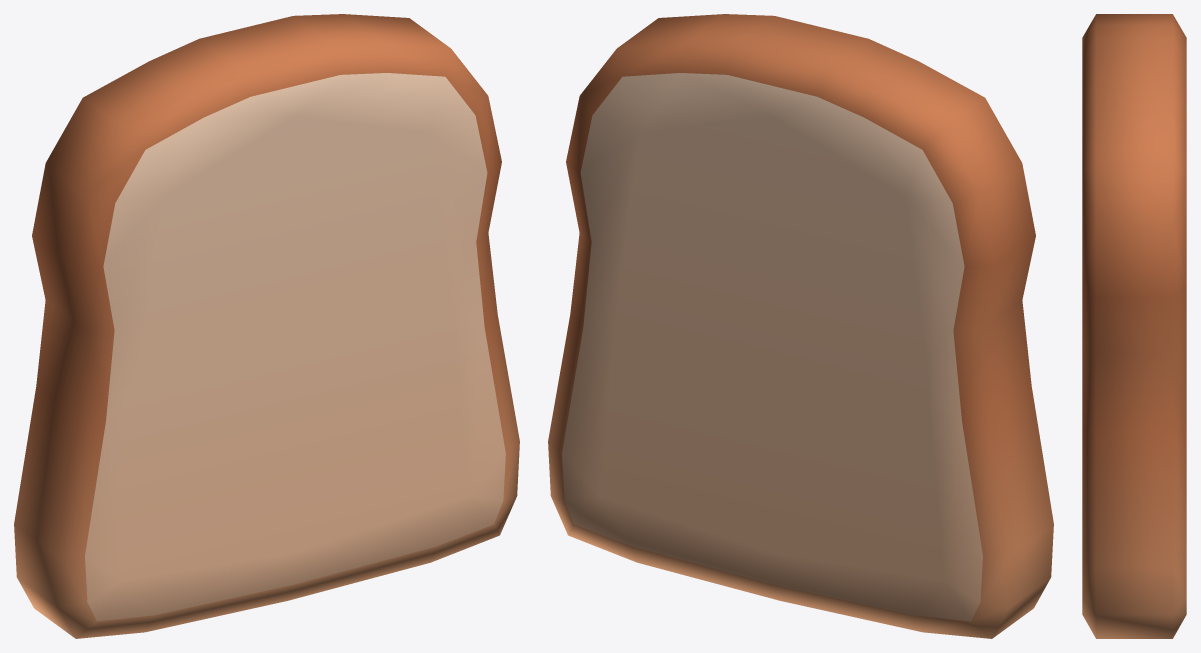
Rendered from Bread Slice.glb.
3 views of the same model, side by side, from view 1: azimuth 30°, elevation 25°; view 2: azimuth 150°, elevation 25°; view 3: azimuth 270°, elevation 25° (orthographic). The views are drawn at different scales.
Visible parts, largest first — view 1: bread_slice; view 2: bread_slice; view 3: bread_slice.
Part boxes in pixels (x1,y1,x2,y2): bread_slice: (14, 14, 519, 638); bread_slice: (548, 14, 1053, 638); bread_slice: (1082, 14, 1186, 638).
Size of the model in its own units: 0.4612 by 0.5155 by 0.0979.
1 material, 1 textured.
